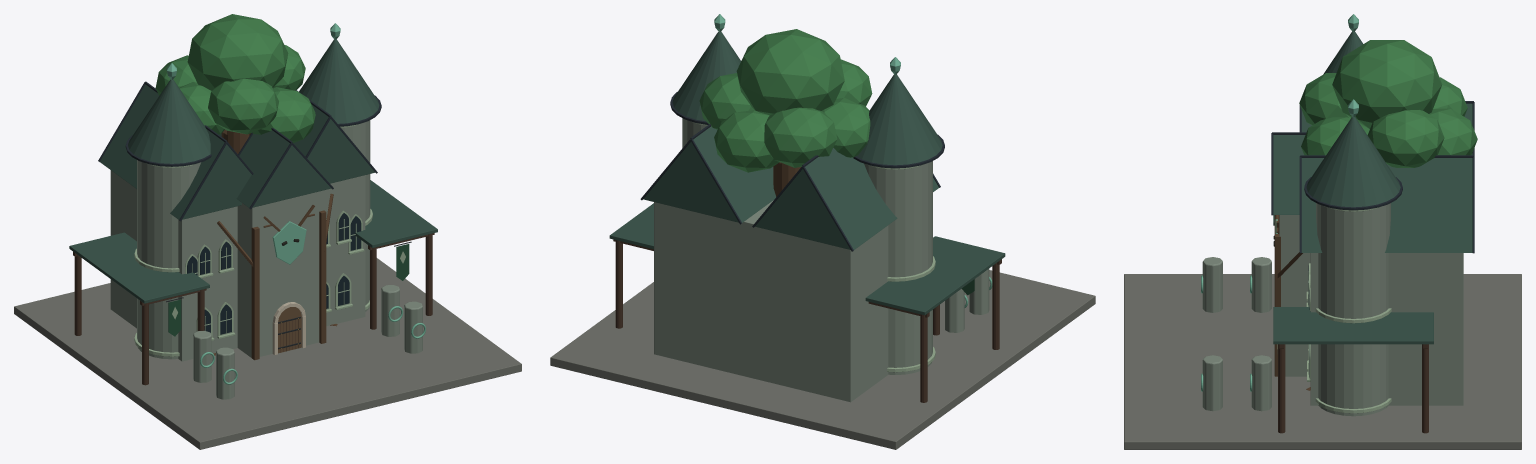
The model's file is SpiritAcademy.fbx.
3 renders of one model, left to right at view 1: azimuth 30°, elevation 25°; view 2: azimuth 150°, elevation 25°; view 3: azimuth 270°, elevation 25°, orthographic. The views are drawn at different scales.
Visible parts, largest first — view 1: Spirit Academy foundation.001, Spirit Academy sanctuary hall.001, Spirit Academy ceremonial gatehouse.001, Spirit Academy west elder tower shaft.001, Spirit Academy central crown.001, Spirit Academy sanctuary wing roof.002, Spirit Academy west elder tower sanctuary spire.001, Spirit Academy ceremonial gatehouse roof.001, Spirit Academy open pavilion roof.002, Spirit Academy east elder tower sanctuary spire.001, Spirit Academy sacred crown.010, Spirit Academy sanctuary wing roof.003 (+18 smaller); view 2: Spirit Academy sanctuary hall.001, Spirit Academy foundation.001, Spirit Academy sanctuary wing roof.002, Spirit Academy west elder tower shaft.001, Spirit Academy central crown.001, Spirit Academy sanctuary wing roof.003, Spirit Academy open pavilion roof.002, Spirit Academy west elder tower sanctuary spire.001, Spirit Academy sacred crown.008, Spirit Academy sacred crown.007, Spirit Academy east elder tower sanctuary spire.001, Spirit Academy sacred crown.009 (+8 smaller); view 3: Spirit Academy foundation.001, Spirit Academy east elder tower shaft.001, Spirit Academy sanctuary hall.001, Spirit Academy sanctuary wing roof.003, Spirit Academy central crown.001, Spirit Academy east elder tower sanctuary spire.001, Spirit Academy open pavilion roof.003, Spirit Academy sacred crown.006, Spirit Academy ceremonial gatehouse.001, Spirit Academy ceremonial gatehouse roof.001, Spirit Academy sacred crown.010, Spirit Academy sacred crown.007 (+13 smaller).
Part boxes in pixels (left/top/right/bottom): Spirit Academy foundation.001: left=14, top=258, right=521, bottom=449; Spirit Academy sanctuary hall.001: left=110, top=170, right=365, bottom=361; Spirit Academy ceremonial gatehouse.001: left=237, top=190, right=323, bottom=357; Spirit Academy west elder tower shaft.001: left=137, top=160, right=200, bottom=359; Spirit Academy central crown.001: left=187, top=14, right=288, bottom=90; Spirit Academy sanctuary wing roof.002: left=100, top=84, right=251, bottom=219; Spirit Academy west elder tower sanctuary spire.001: left=128, top=79, right=210, bottom=163; Spirit Academy ceremonial gatehouse roof.001: left=236, top=130, right=331, bottom=207; Spirit Academy open pavilion roof.002: left=69, top=232, right=209, bottom=303; Spirit Academy east elder tower sanctuary spire.001: left=299, top=39, right=379, bottom=123; Spirit Academy sacred crown.010: left=208, top=78, right=278, bottom=134; Spirit Academy sanctuary wing roof.003: left=219, top=105, right=374, bottom=183; Spirit Academy sanctuary hall.001: left=654, top=200, right=888, bottom=402; Spirit Academy foundation.001: left=550, top=270, right=1095, bottom=449; Spirit Academy sanctuary wing roof.002: left=755, top=148, right=938, bottom=249; Spirit Academy west elder tower shaft.001: left=864, top=161, right=932, bottom=374; Spirit Academy central crown.001: left=736, top=29, right=844, bottom=115; Spirit Academy sanctuary wing roof.003: left=643, top=126, right=775, bottom=222; Spirit Academy open pavilion roof.002: left=865, top=236, right=1005, bottom=315; Spirit Academy west elder tower sanctuary spire.001: left=856, top=74, right=942, bottom=165; Spirit Academy sacred crown.008: left=764, top=107, right=837, bottom=167; Spirit Academy sacred crown.007: left=714, top=109, right=779, bottom=172; Spirit Academy east elder tower sanctuary spire.001: left=672, top=31, right=740, bottom=121; Spirit Academy sacred crown.009: left=822, top=98, right=870, bottom=157; Spirit Academy foundation.001: left=1124, top=274, right=1521, bottom=449; Spirit Academy east elder tower shaft.001: left=1316, top=203, right=1390, bottom=416; Spirit Academy sanctuary hall.001: left=1310, top=253, right=1463, bottom=405; Spirit Academy sanctuary wing roof.003: left=1301, top=158, right=1472, bottom=252; Spirit Academy central crown.001: left=1332, top=40, right=1442, bottom=128; Spirit Academy east elder tower sanctuary spire.001: left=1306, top=117, right=1400, bottom=207; Spirit Academy open pavilion roof.003: left=1273, top=307, right=1433, bottom=344; Spirit Academy sacred crown.006: left=1367, top=110, right=1444, bottom=167; Spirit Academy ceremonial gatehouse.001: left=1279, top=215, right=1310, bottom=376; Spirit Academy ceremonial gatehouse roof.001: left=1273, top=135, right=1305, bottom=214; Spirit Academy sacred crown.010: left=1299, top=73, right=1350, bottom=125; Spirit Academy sacred crown.007: left=1429, top=108, right=1477, bottom=155.
Bounding box in the file's own units: 26 × 23.25 × 26.
